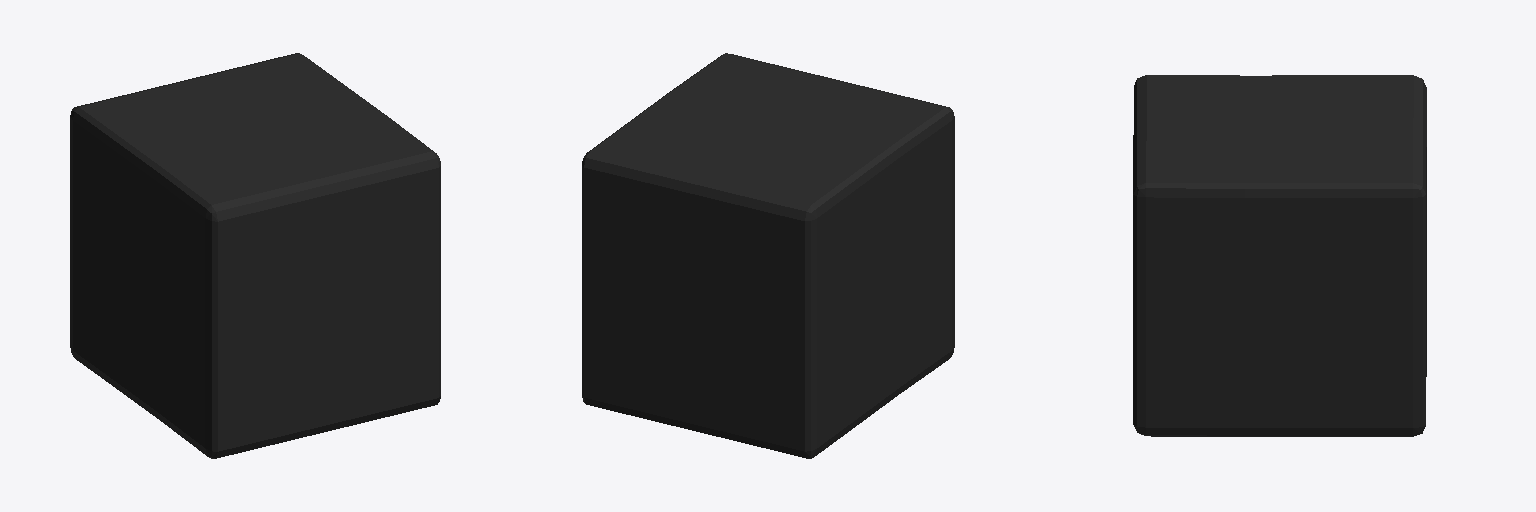
File: stone.obj
3 views of the same model, side by side, from view 1: azimuth 30°, elevation 25°; view 2: azimuth 150°, elevation 25°; view 3: azimuth 270°, elevation 25° (orthographic).
Parts seen in each view (by area): view 1: stone; view 2: stone; view 3: stone.
Boxes of the visible parts, box(x1,y1,x2,y2) form: stone: box(70, 53, 440, 458); stone: box(582, 53, 954, 458); stone: box(1133, 75, 1426, 436).
Size of the model in its own units: 1.16 by 1.2 by 1.26.